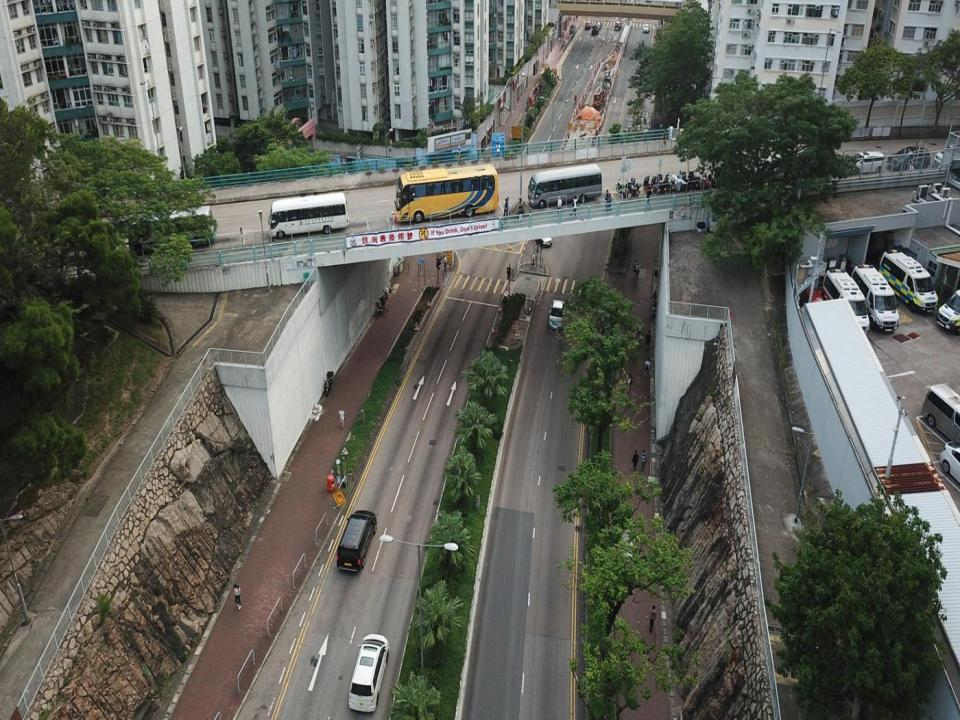bus: (394, 163, 499, 224), (128, 206, 217, 256), (268, 192, 348, 239), (528, 163, 602, 208)
car: (921, 384, 960, 450), (799, 289, 825, 330), (940, 441, 960, 483), (548, 300, 565, 330), (533, 226, 552, 248), (614, 21, 622, 30), (585, 20, 592, 29), (595, 21, 603, 28), (644, 24, 650, 33)
van: (878, 250, 938, 312), (348, 632, 390, 714), (850, 264, 899, 332), (821, 269, 869, 338), (336, 510, 377, 571), (757, 153, 801, 181), (935, 288, 960, 334), (887, 145, 931, 171), (802, 150, 840, 176), (847, 150, 883, 174), (934, 144, 960, 172), (591, 25, 599, 34)
